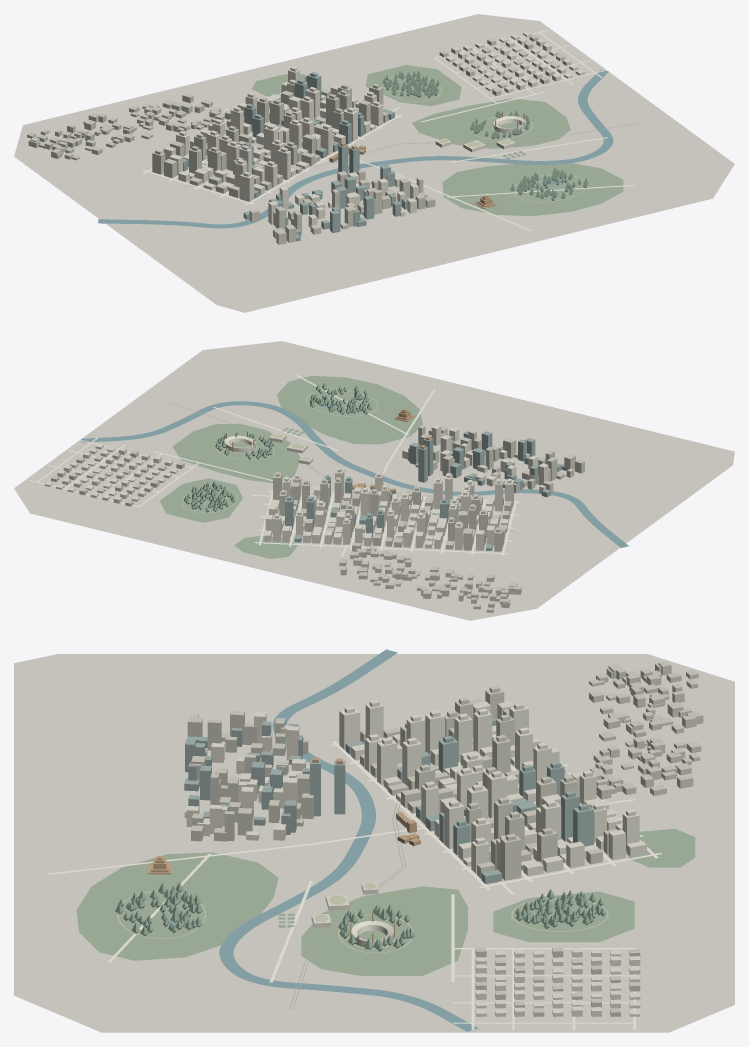
Rendered from melb-city.glb.
The picture shows the model from 3 angles, top to bottom: view 1: azimuth 30°, elevation 25°; view 2: azimuth 150°, elevation 25°; view 3: azimuth 270°, elevation 25°; orthographic projection. The views are drawn at different scales.
Parts seen in each view (by area): view 1: Ground, MassIvory, Parks, MassStone, MassGlass, River, Roads, MassTrees, Paths; view 2: Ground, MassIvory, Parks, MassStone, MassGlass, Roads, River, MassTrees, Paths; view 3: Ground, MassIvory, Parks, MassStone, MassGlass, River, MassTrees, Roads, MassLandmarks, Paths, Rail.
Boxes of the visible parts, x1=… form: Ground: x1=14, y1=14, x2=734, y2=312; MassIvory: x1=163, y1=31, x2=584, y2=227; Parks: x1=251, y1=65, x2=623, y2=215; MassStone: x1=27, y1=35, x2=565, y2=244; MassGlass: x1=183, y1=72, x2=410, y2=241; River: x1=98, y1=70, x2=613, y2=228; Roads: x1=142, y1=29, x2=634, y2=230; MassTrees: x1=382, y1=70, x2=588, y2=200; Paths: x1=383, y1=74, x2=585, y2=202; Ground: x1=14, y1=341, x2=734, y2=620; MassIvory: x1=44, y1=425, x2=548, y2=550; Parks: x1=160, y1=375, x2=422, y2=558; MassStone: x1=51, y1=425, x2=584, y2=612; MassGlass: x1=282, y1=431, x2=566, y2=550; Roads: x1=28, y1=374, x2=521, y2=556; River: x1=81, y1=401, x2=628, y2=547; MassTrees: x1=184, y1=383, x2=371, y2=512; Paths: x1=181, y1=389, x2=378, y2=512; Ground: x1=14, y1=654, x2=734, y2=1032; MassIvory: x1=184, y1=700, x2=646, y2=1016; Parks: x1=76, y1=829, x2=695, y2=975; MassStone: x1=187, y1=661, x2=703, y2=1016; MassGlass: x1=184, y1=717, x2=615, y2=883; River: x1=169, y1=649, x2=478, y2=1031; MassTrees: x1=115, y1=882, x2=605, y2=951; Roads: x1=48, y1=728, x2=661, y2=1029; MassLandmarks: x1=148, y1=757, x2=420, y2=948; Paths: x1=117, y1=882, x2=608, y2=953; Rail: x1=289, y1=782, x2=406, y2=1009.
Size of the model in its own units: 41.44 by 2.83 by 33.
